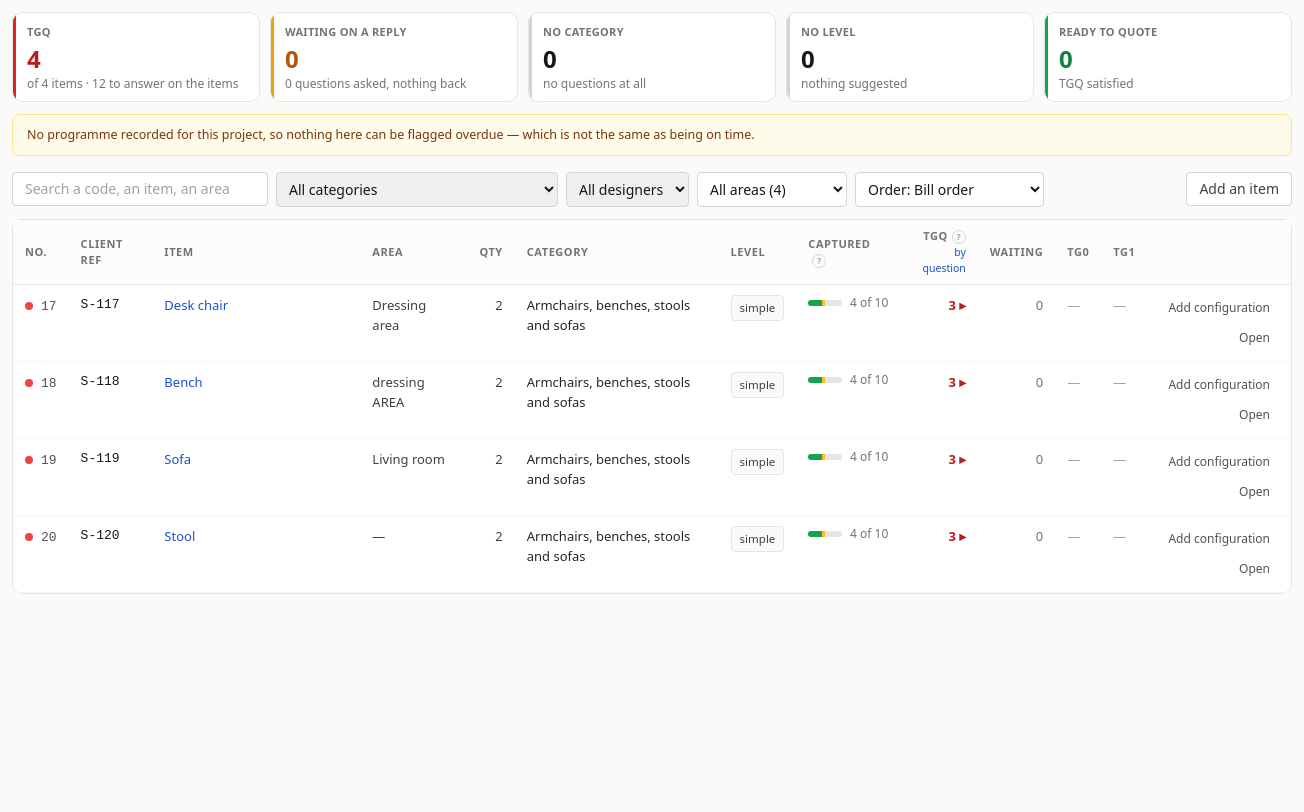
Test: the area select › still finds an area by typing it in the search box
This screenshot has width=1304, height=812.
Type "living" into the field with placeholder "Search a code, an item, an area" at [140, 189], box [12,172,268,206]
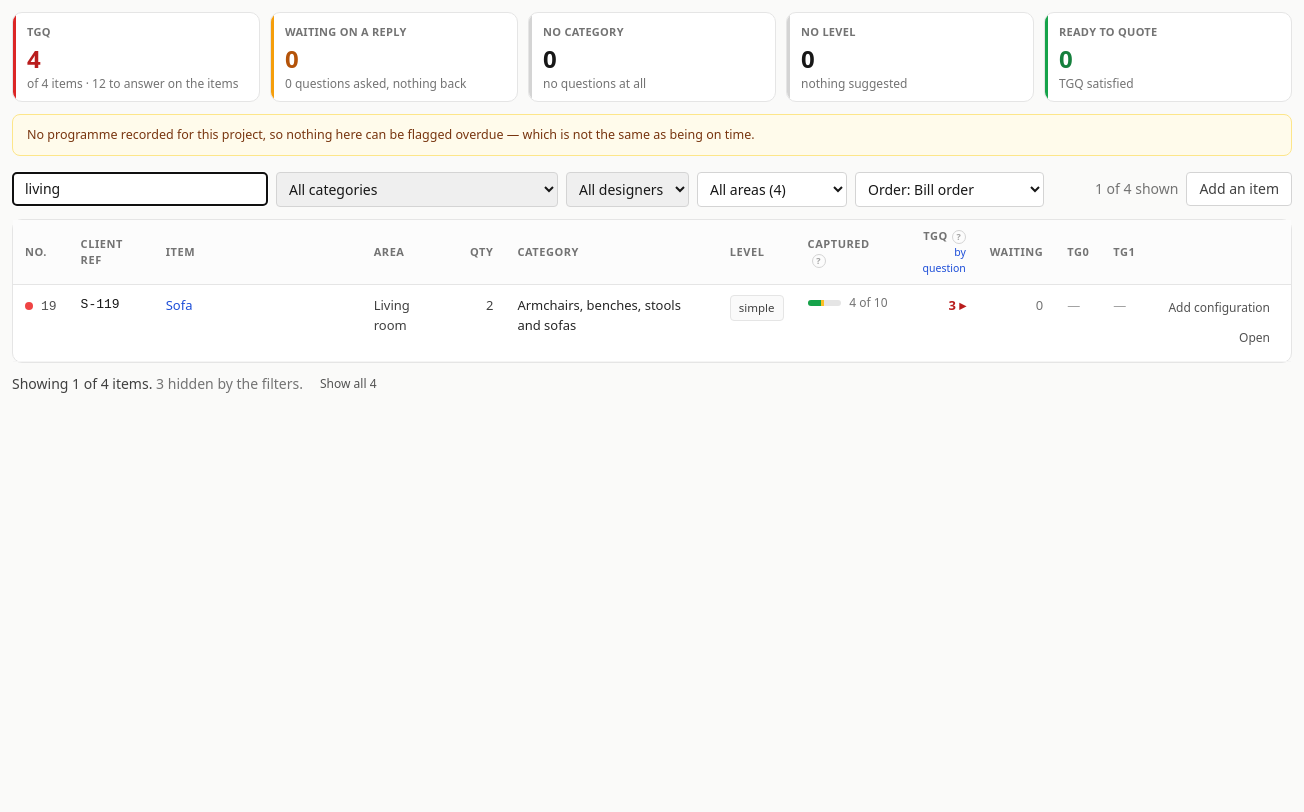
Expected: the text "Sofa" is shown, [166,296,192,314]
Now the link "Desk chair" is gone
